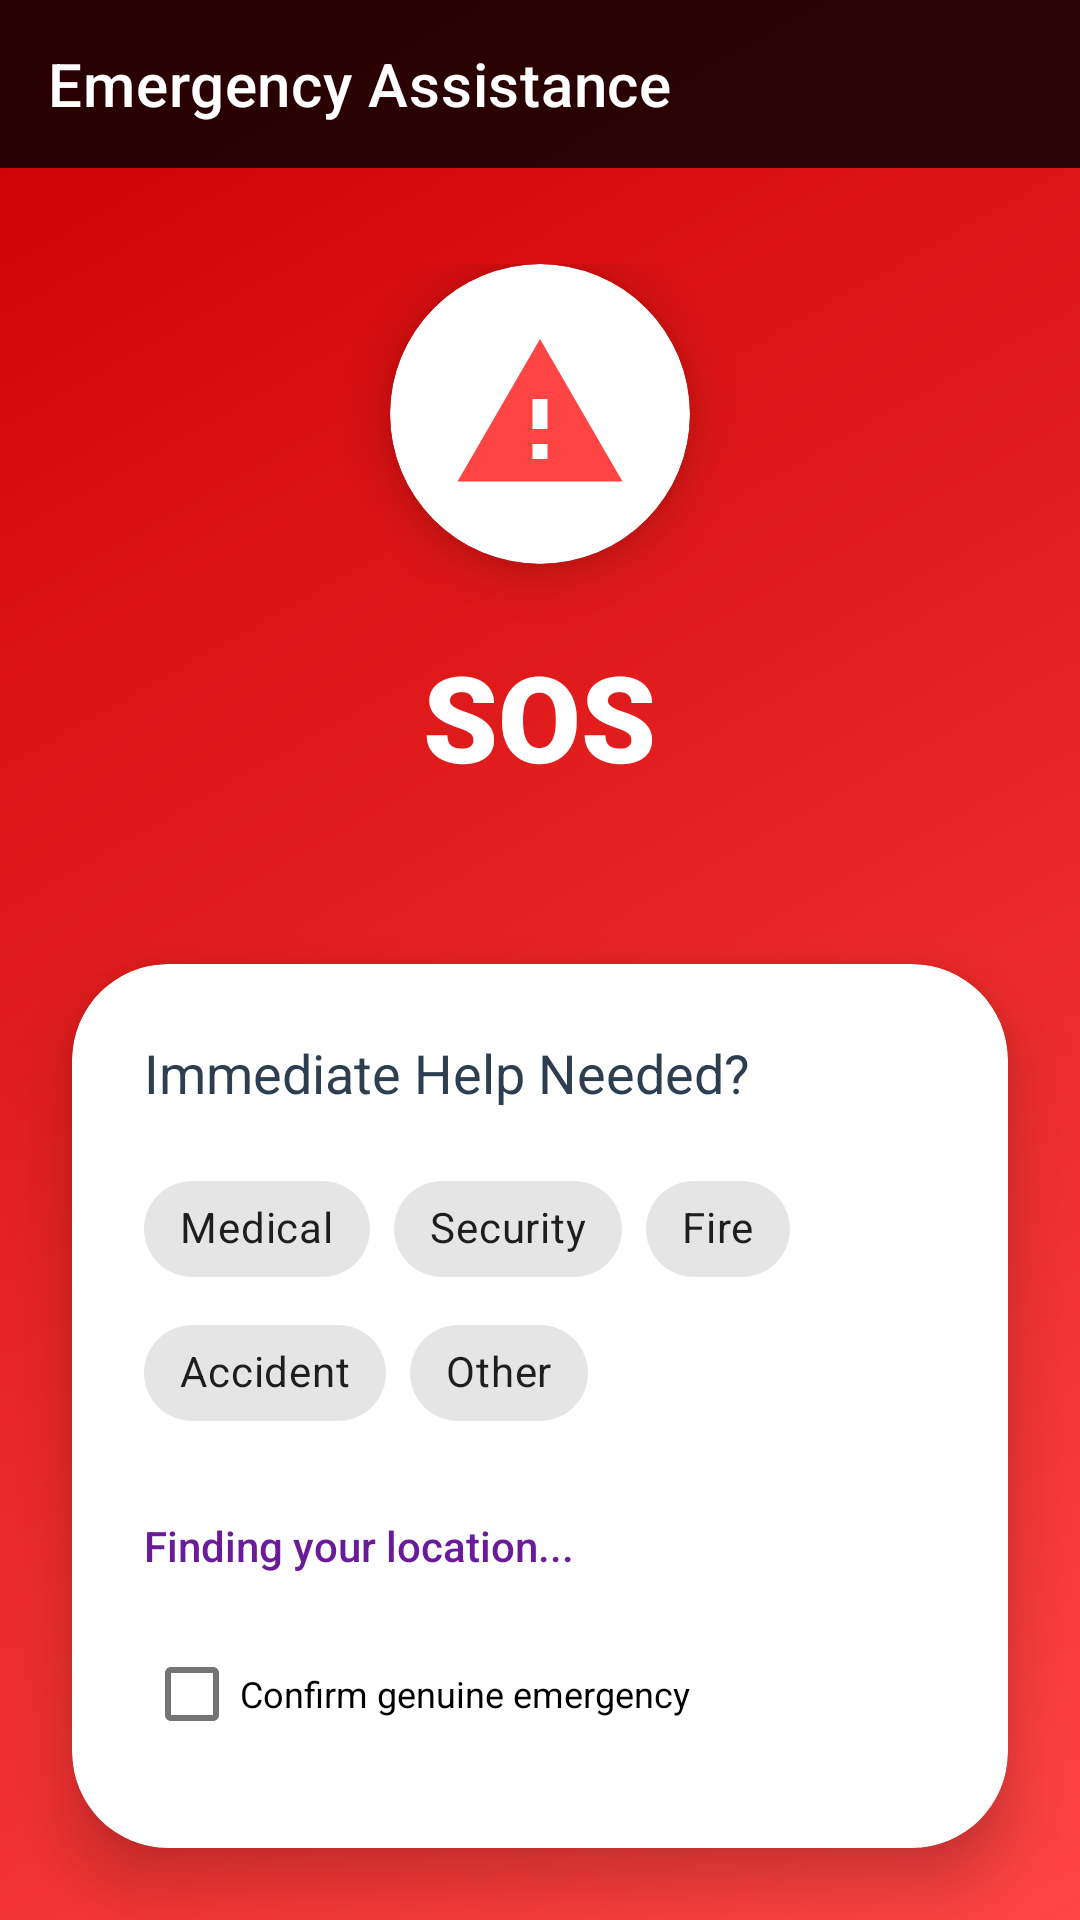

Named icons in this screenshot (1080px×1920px) and their bounding boxes, (x1=x1, y1=y1, x2=x2, y2=y2):
emergency: (x1=457, y1=339, x2=623, y2=482)
